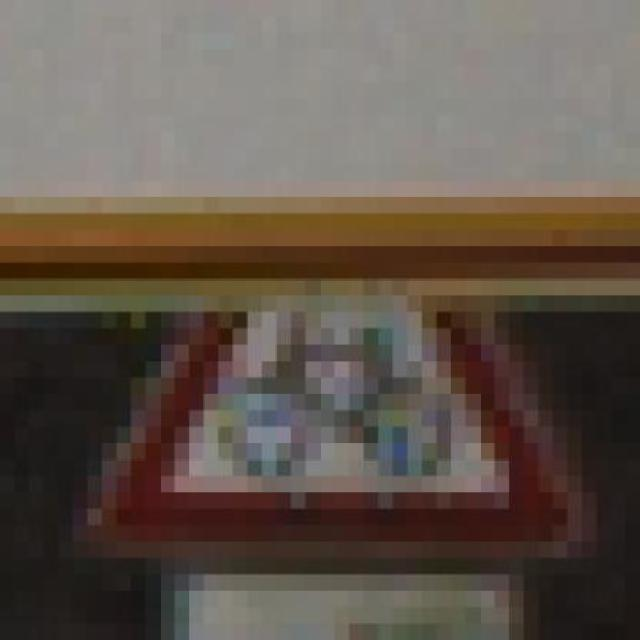CYCLE ROUTE AHEAD WARNING: (68, 329, 606, 560)
